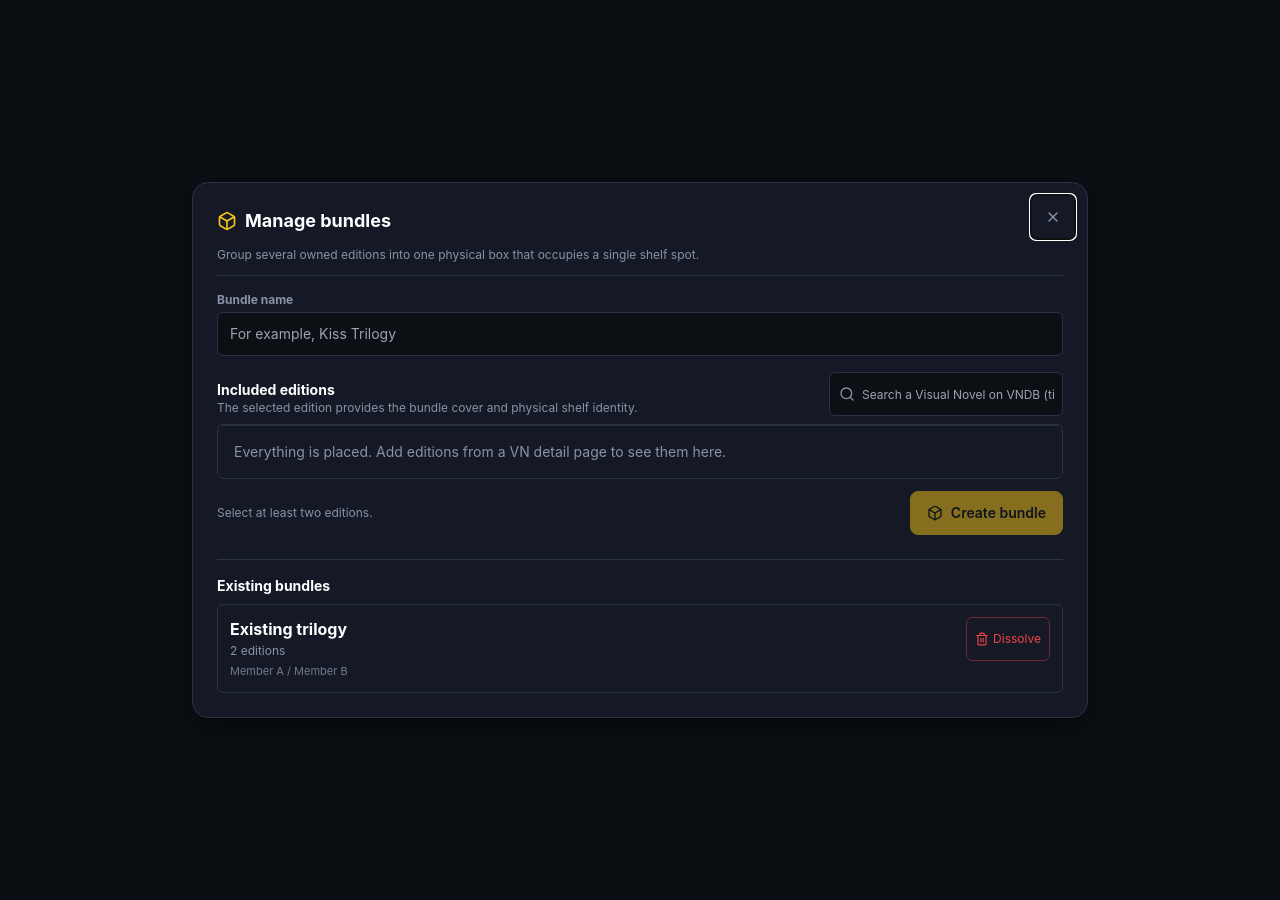
Scenario: PhysicalBundleDialog › reports a failed dissolve and preserves the bundle
Expected: the text "Existing trilogy" is shown, [230,617,348,641]
Step 1. Click the button "Dissolve" → (1008, 639), box [966,617,1050,661]
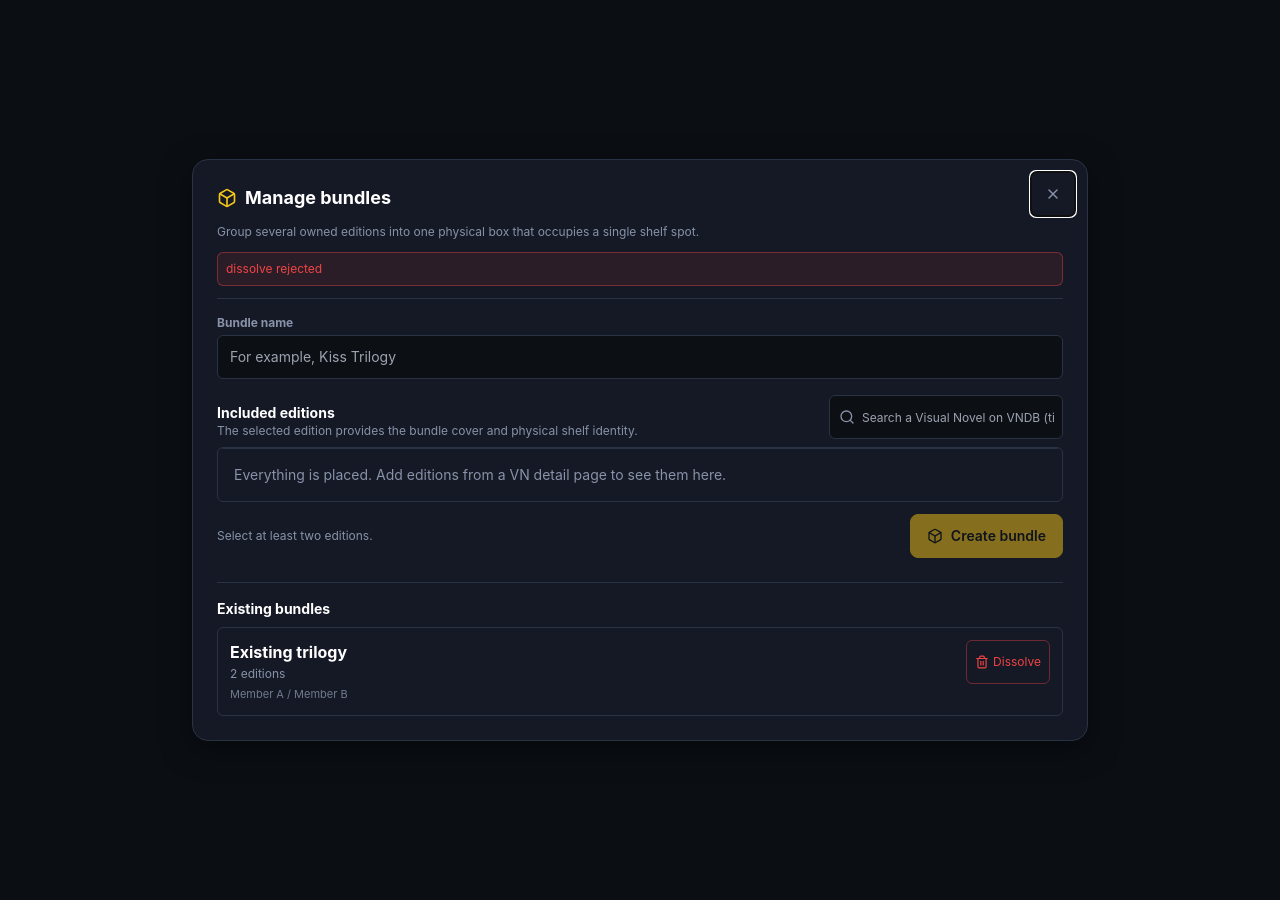
Expected: the text "Existing trilogy" is shown, [230,640,348,664]
Expected: the message reads "dissolve rejected", [226,261,322,276]
